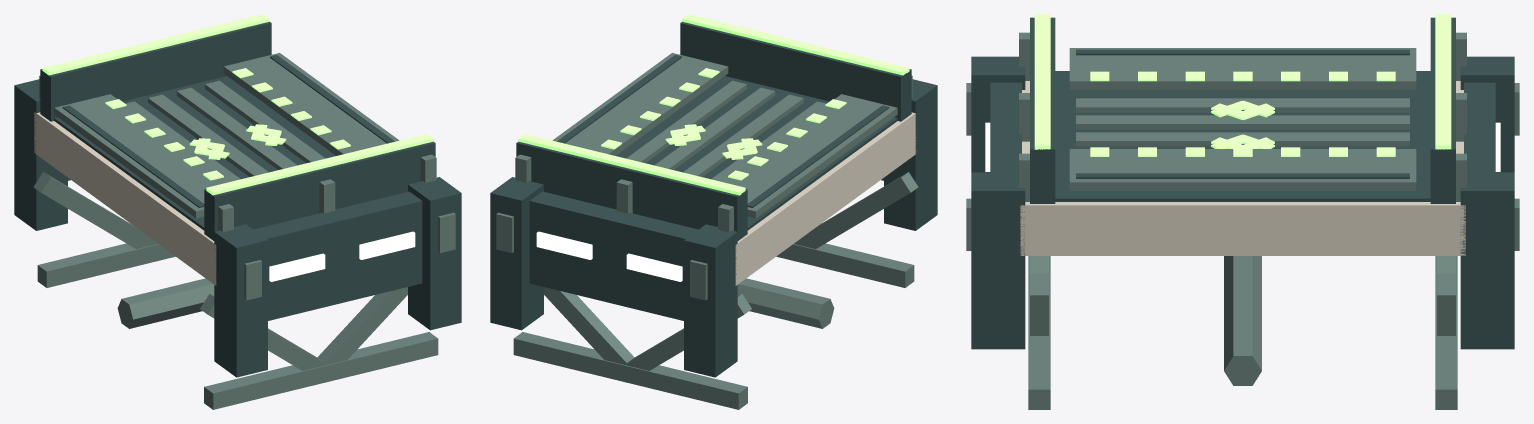
Rendered from Deck_Conveyor_Belt_v4_2_lab.glb.
3 renders of one model, left to right at view 1: azimuth 30°, elevation 25°; view 2: azimuth 150°, elevation 25°; view 3: azimuth 270°, elevation 25°, orthographic. The views are drawn at different scales.
Visible parts, largest first — view 1: Deck_Conveyor_Belt_v4_2, Treads, TreadsRev; view 2: Deck_Conveyor_Belt_v4_2, Treads, TreadsRev; view 3: Deck_Conveyor_Belt_v4_2, Treads, TreadsRev.
Part boxes in pixels (box(x1,y1,x2,y2)): Deck_Conveyor_Belt_v4_2: box(14, 14, 461, 409); Treads: box(125, 80, 325, 181); TreadsRev: box(129, 83, 323, 181); Deck_Conveyor_Belt_v4_2: box(490, 14, 937, 409); Treads: box(626, 80, 826, 181); TreadsRev: box(631, 84, 817, 181); Deck_Conveyor_Belt_v4_2: box(966, 14, 1519, 409); Treads: box(1076, 98, 1409, 148); TreadsRev: box(1076, 98, 1409, 148).
Size of the model in its own units: 2.09 by 1.83 by 3.48.
